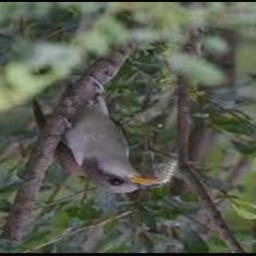Cuckoo: (34, 93, 159, 193)
